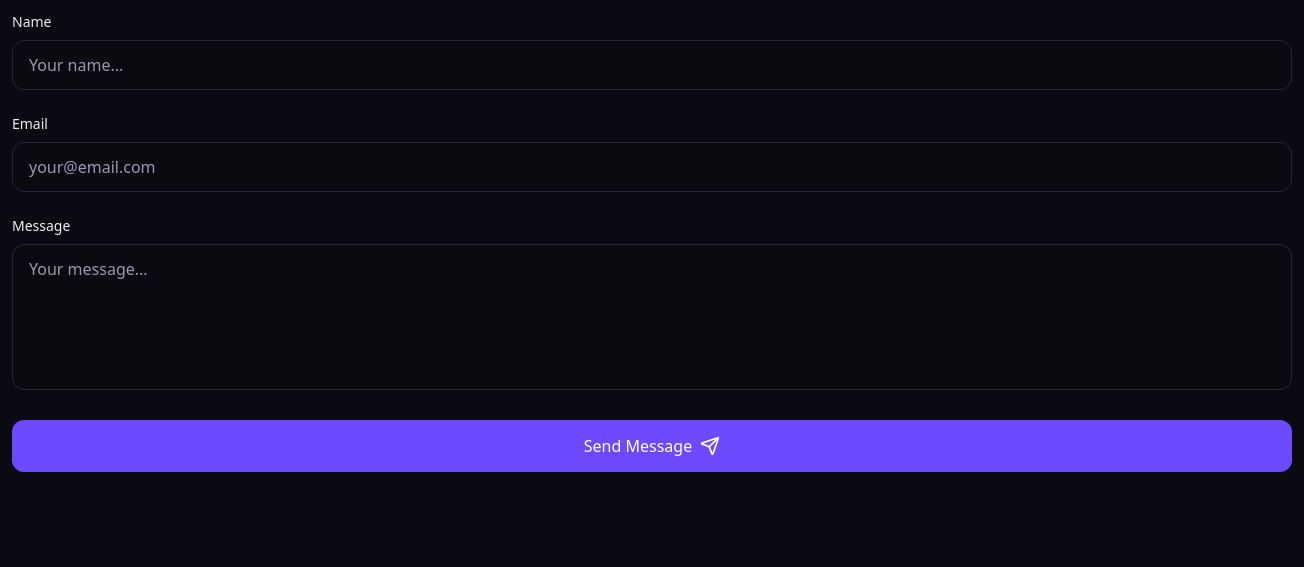
ContactForm › falls back to a generic message for unexpected errors
Type "Ada Lovelace" into the field labelled "Name" at (652, 65), box 12,40 -> 1292,90
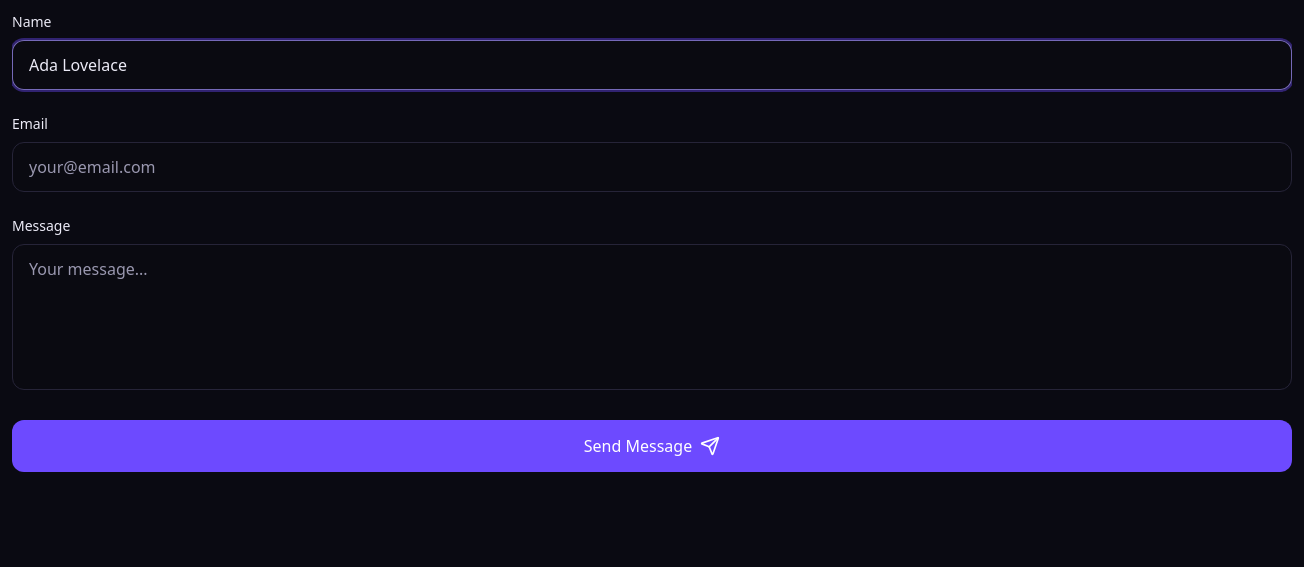
Type "ada@example.com" into the field labelled "Email" at (652, 167), box 12,142 -> 1292,192
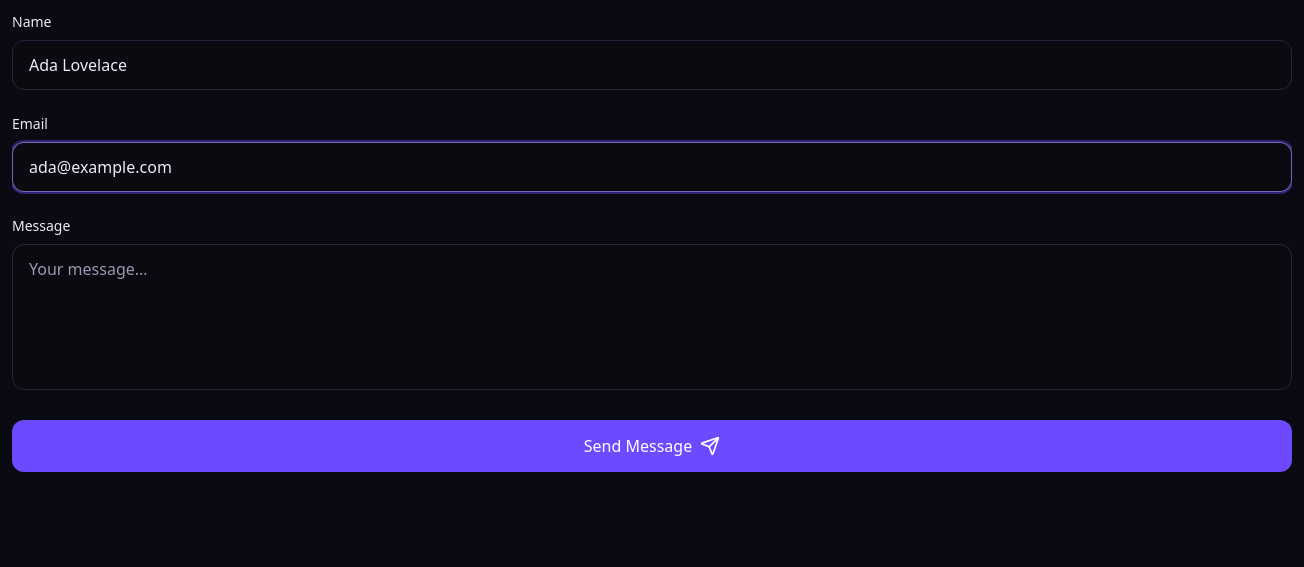
Type "Let's work together." into the text box labelled "Message" at (652, 317), box 12,244 -> 1292,390
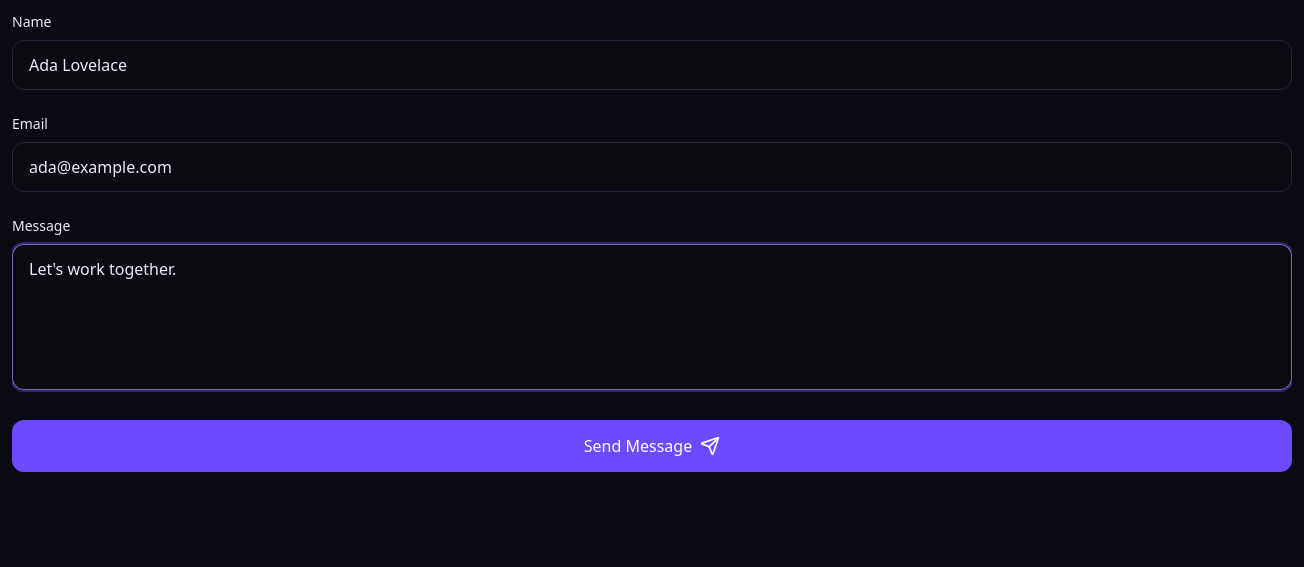
Click the button "Send Message" at (652, 446), box 12,420 -> 1292,472
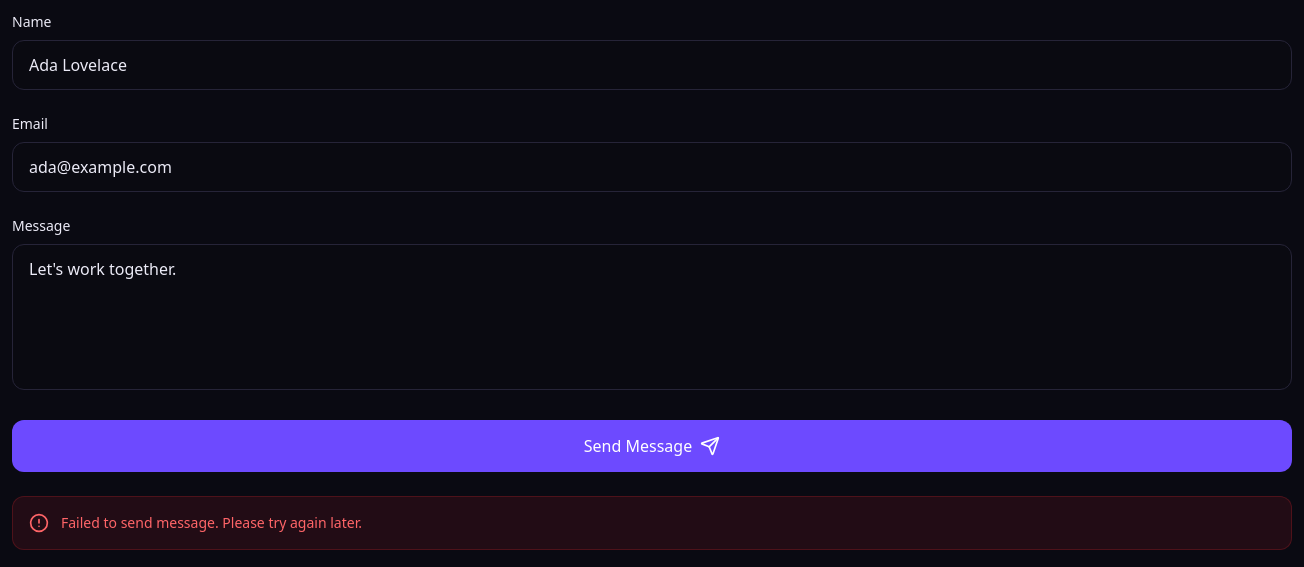
Expected: the message reads "Failed to send message. Please try again later.", 61,513 -> 362,532
